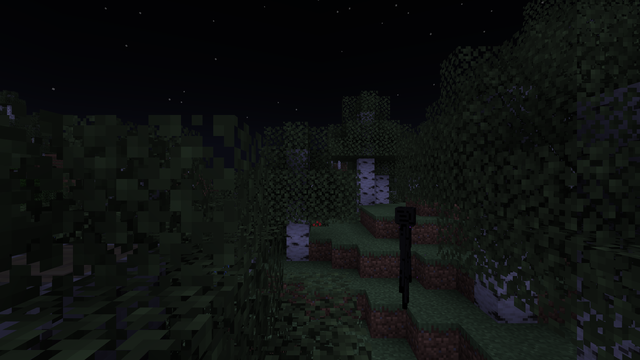endermens: (392, 203, 419, 308)
